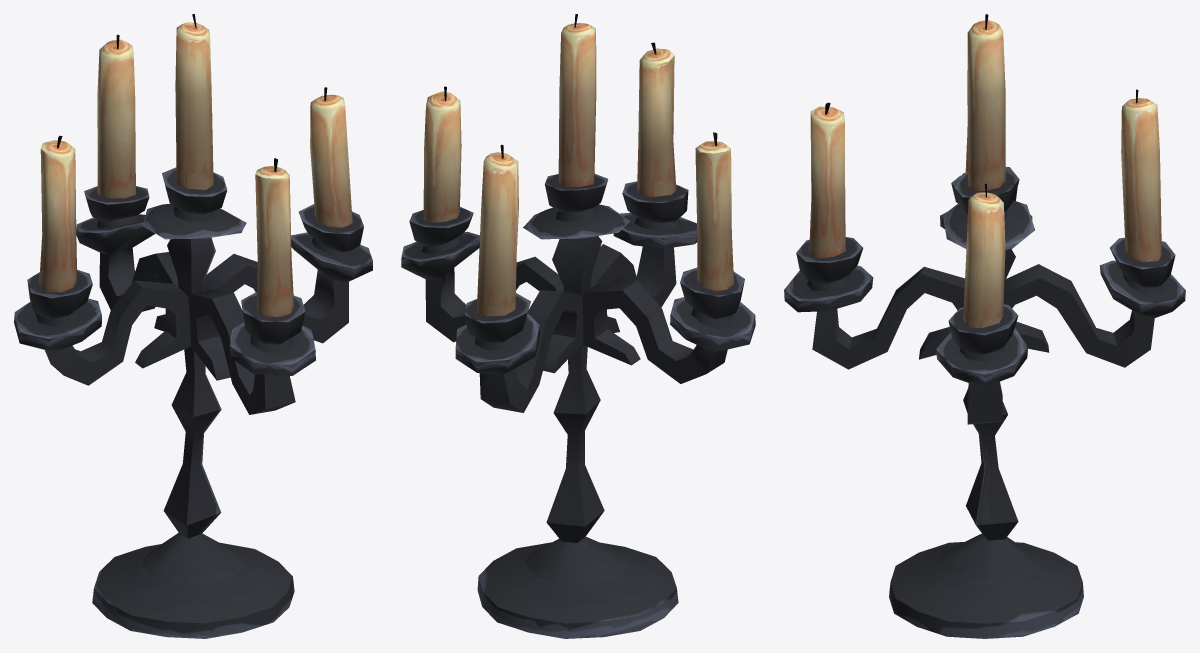
File: SM_PROP_candle_interior_04.fbx
3 views of the same model, side by side, from view 1: azimuth 30°, elevation 25°; view 2: azimuth 150°, elevation 25°; view 3: azimuth 270°, elevation 25° (orthographic).
Parts seen in each view (by area): view 1: SM_PROP_candle_interior_04; view 2: SM_PROP_candle_interior_04; view 3: SM_PROP_candle_interior_04.
Boxes of the visible parts, x1,y1,x2,y2 form: SM_PROP_candle_interior_04: (14, 14, 372, 638); SM_PROP_candle_interior_04: (401, 14, 755, 638); SM_PROP_candle_interior_04: (784, 14, 1185, 638).
Bounding box in the file's own units: 48.13 × 76.99 × 48.13.
